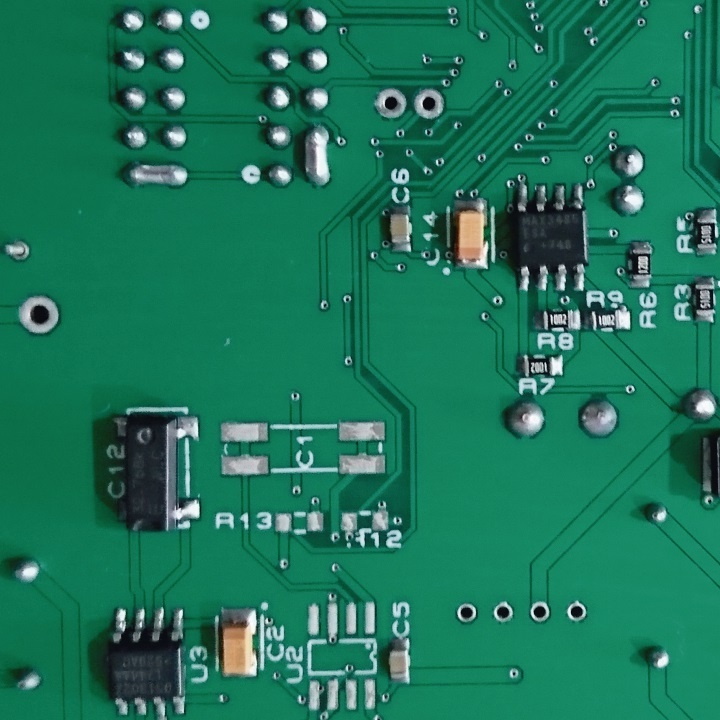F: (16, 290, 64, 339), (371, 84, 410, 123), (410, 85, 445, 121), (1, 238, 35, 264), (564, 598, 590, 627), (527, 598, 553, 626), (455, 599, 479, 629), (490, 599, 516, 626)
P: (298, 122, 336, 190), (121, 160, 190, 189)
